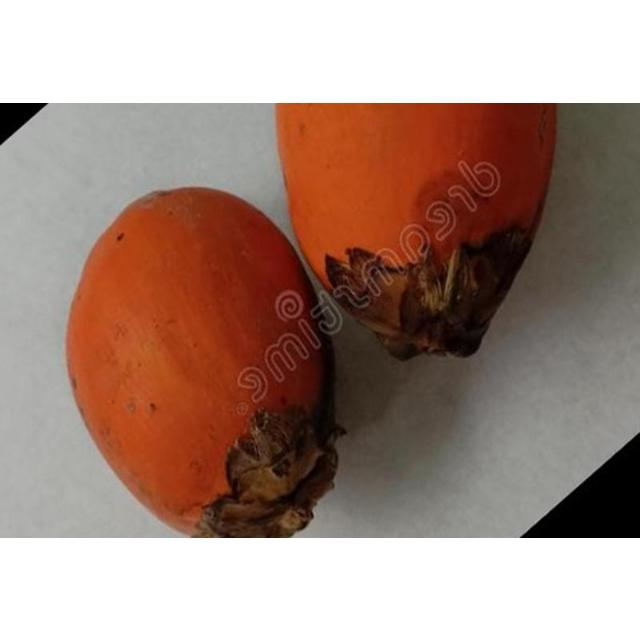good: (64, 186, 345, 536), (273, 102, 558, 360)
